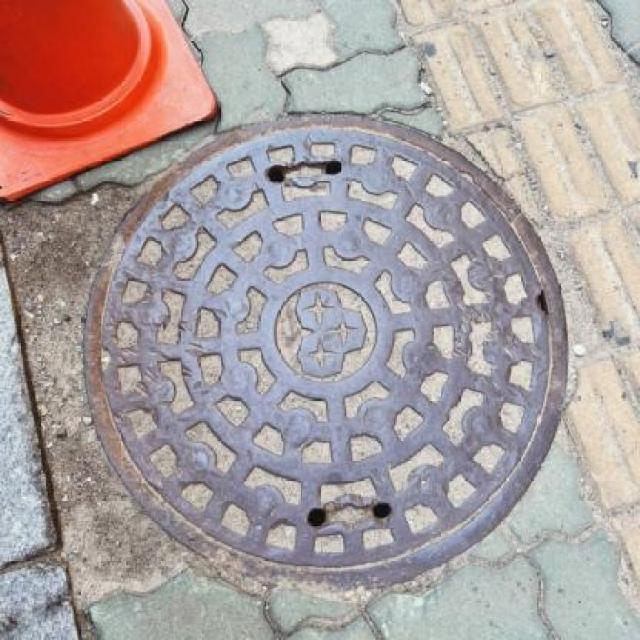Sewer Cover: (79, 85, 603, 597)
